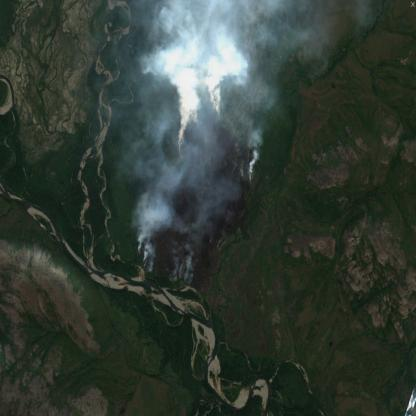fire: (134, 91, 262, 290)
